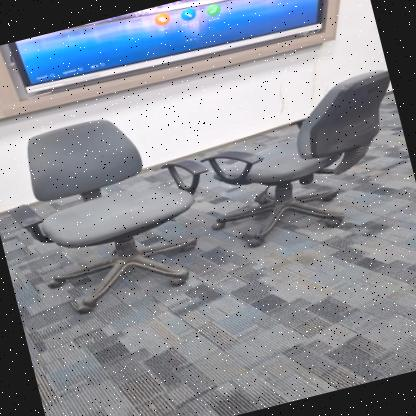chair: (0, 89, 235, 332), (180, 60, 416, 257)
